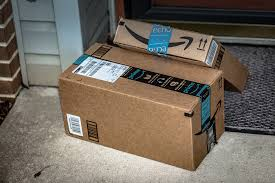package: (63, 42, 230, 170), (112, 16, 251, 93)
